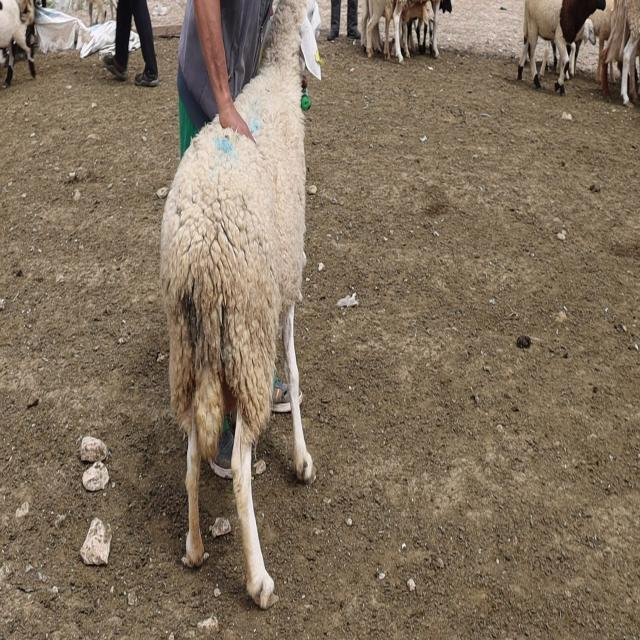Score_2: (159, 0, 321, 609)
